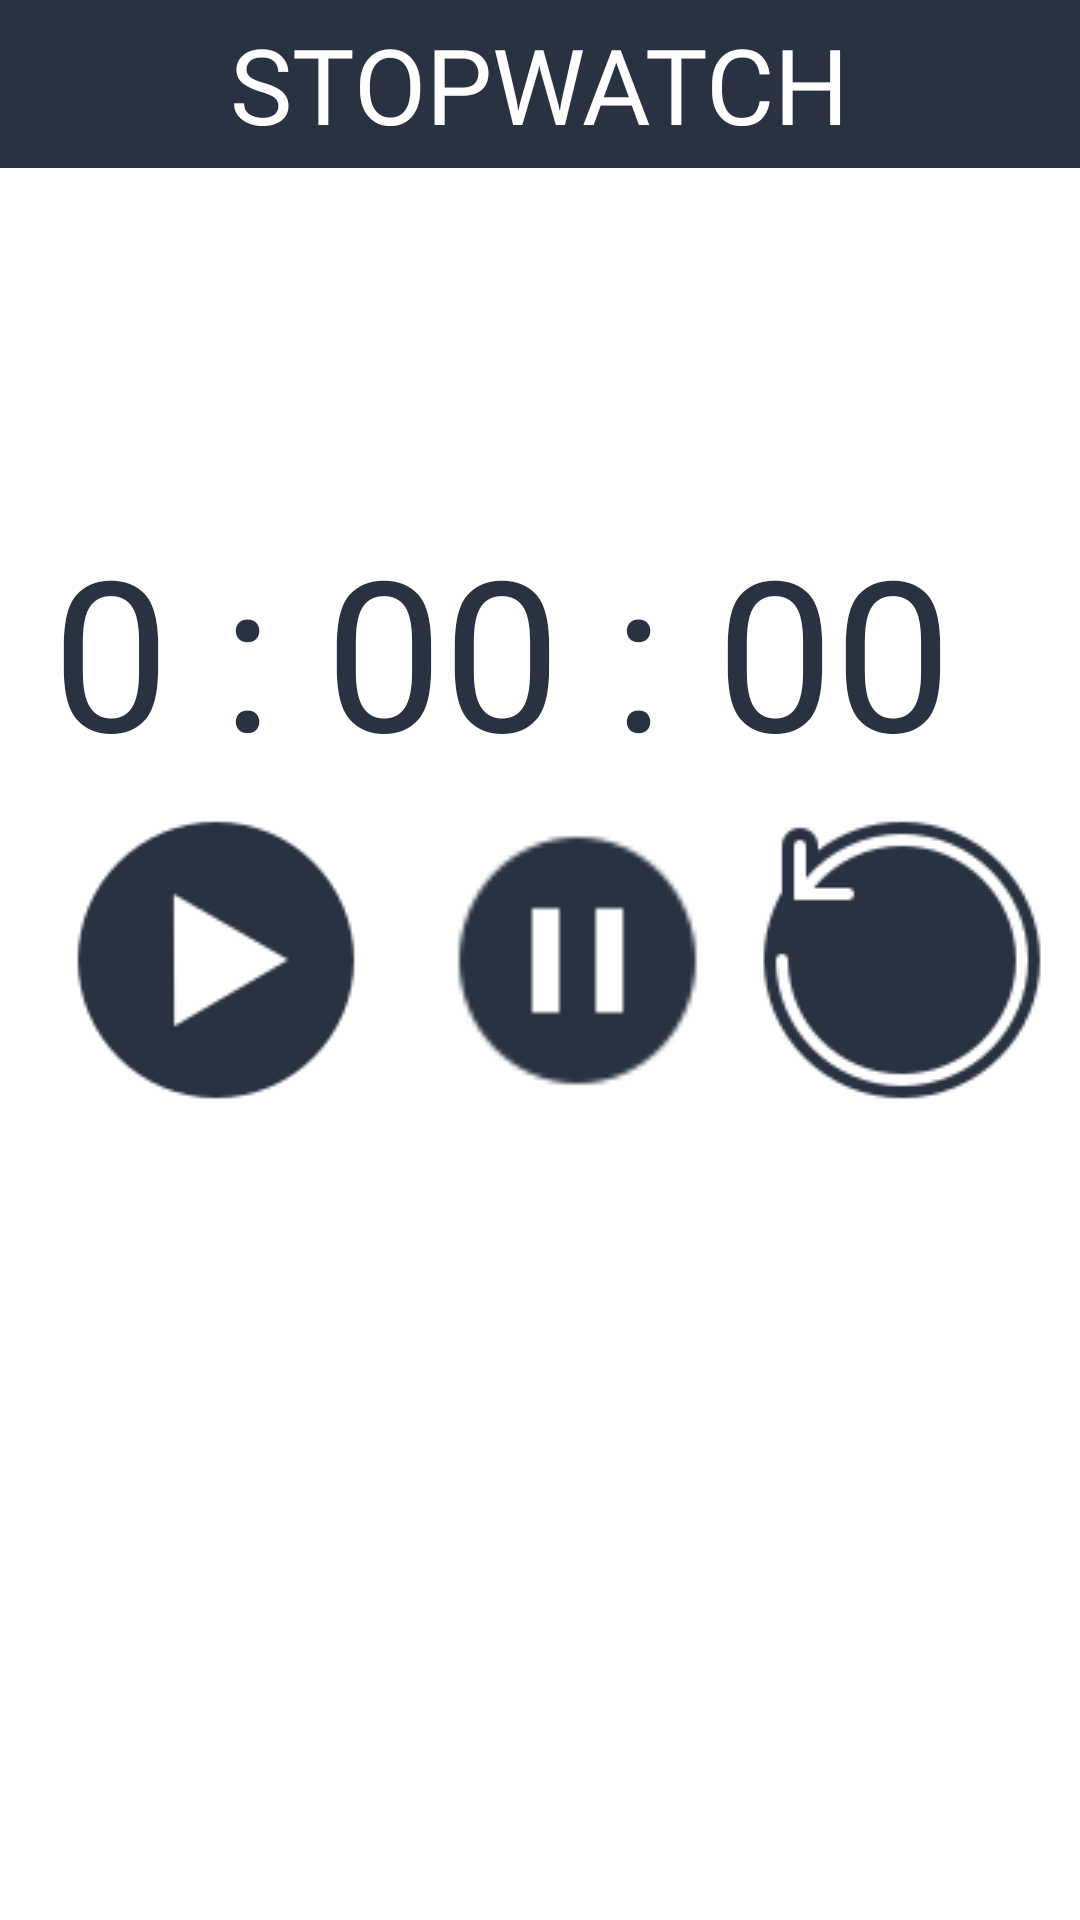

Icons on this 1080 × 1920 Android screen, each with its box as (x1, y1, x2, y2):
Play button: (77, 821, 355, 1099)
Replay button: (763, 821, 1041, 1099)
